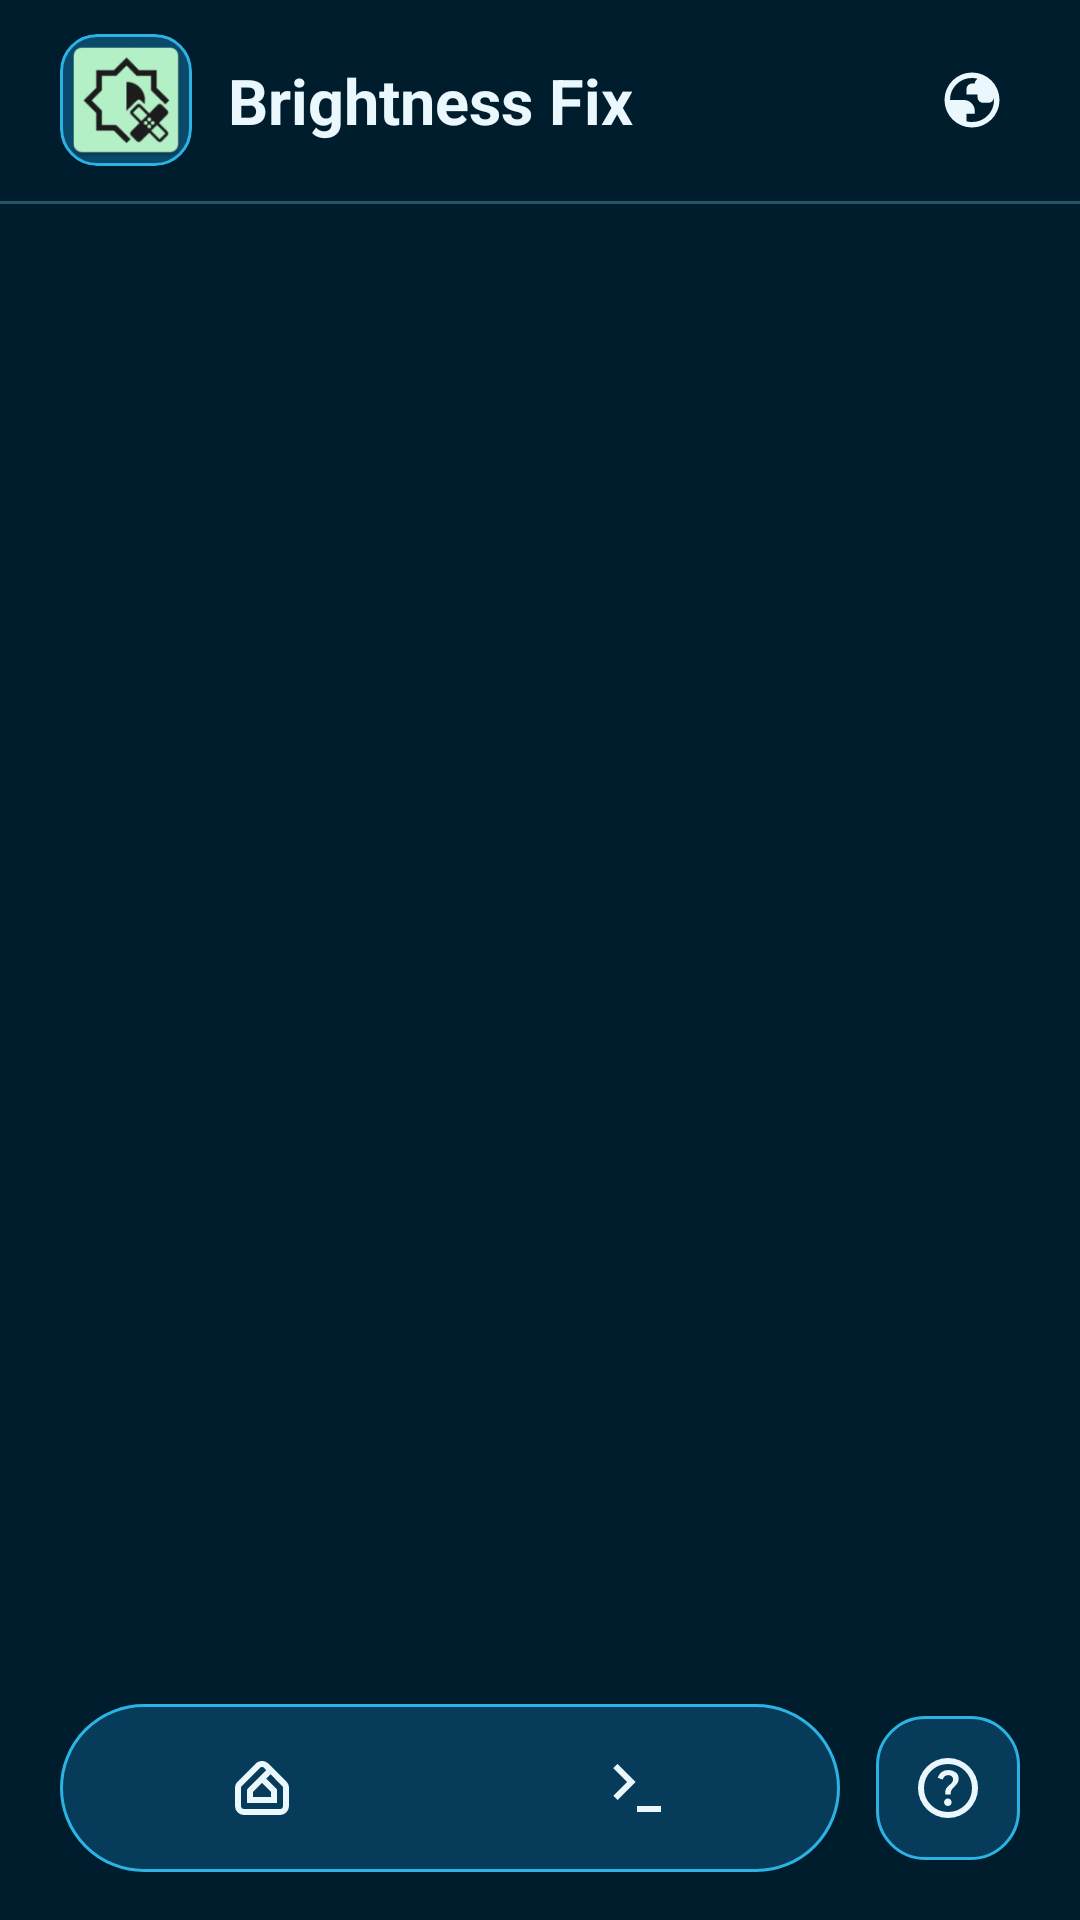

Locate icon controls on the screen. Image size 1080x1920, boxes as (x1, y1, x2, y2).
About: (876, 1716, 1020, 1860)
Home: (235, 1761, 289, 1815)
Language: (944, 72, 1000, 128)
Logs: (613, 1764, 661, 1812)
